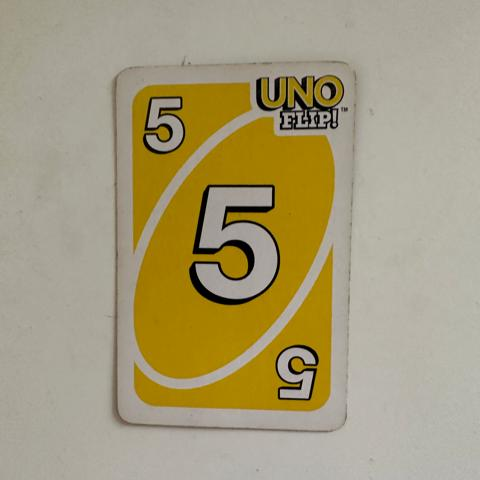lyellow-5: (127, 81, 205, 174)
